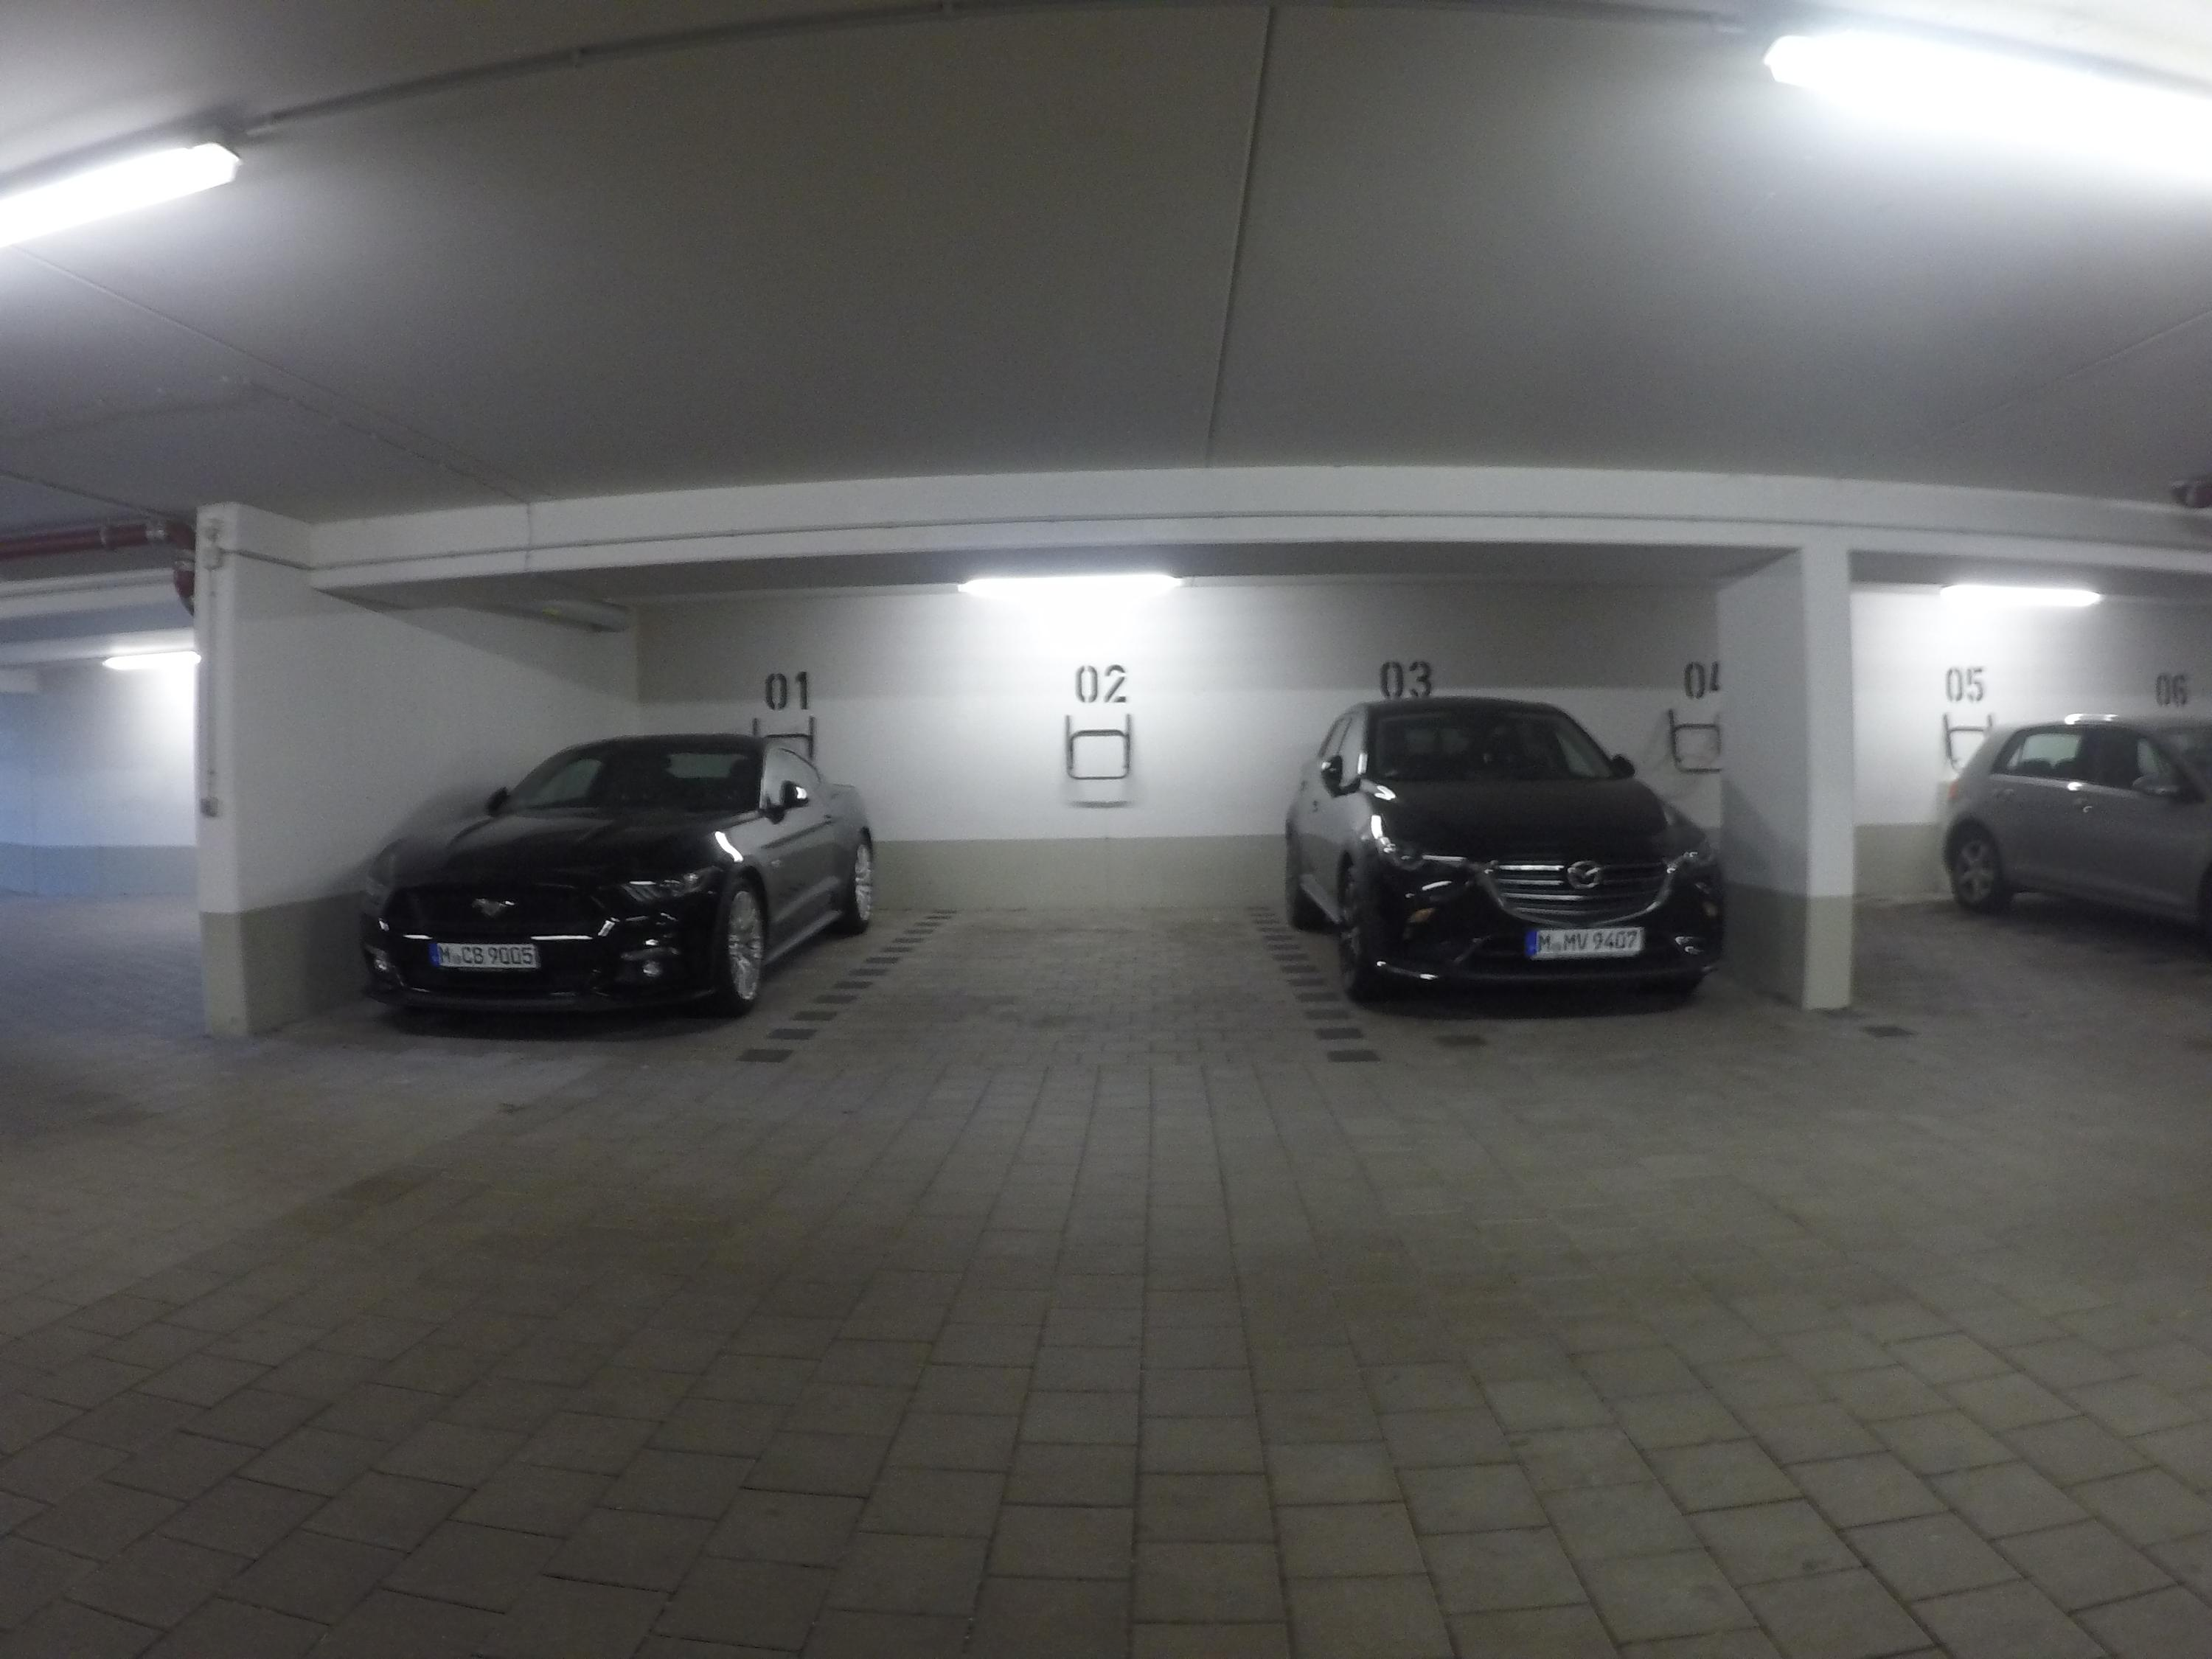0: (498, 946, 511, 964), (510, 947, 522, 964), (1615, 930, 1626, 950)
4: (1604, 931, 1615, 949)
5: (521, 947, 533, 964)
7: (1626, 930, 1637, 949)
9: (1592, 931, 1603, 950), (487, 946, 498, 964)
B: (471, 946, 484, 964)
C: (461, 945, 473, 964)
M: (1537, 933, 1551, 953), (439, 945, 452, 964), (1563, 933, 1576, 952)
V: (1576, 932, 1589, 950)
